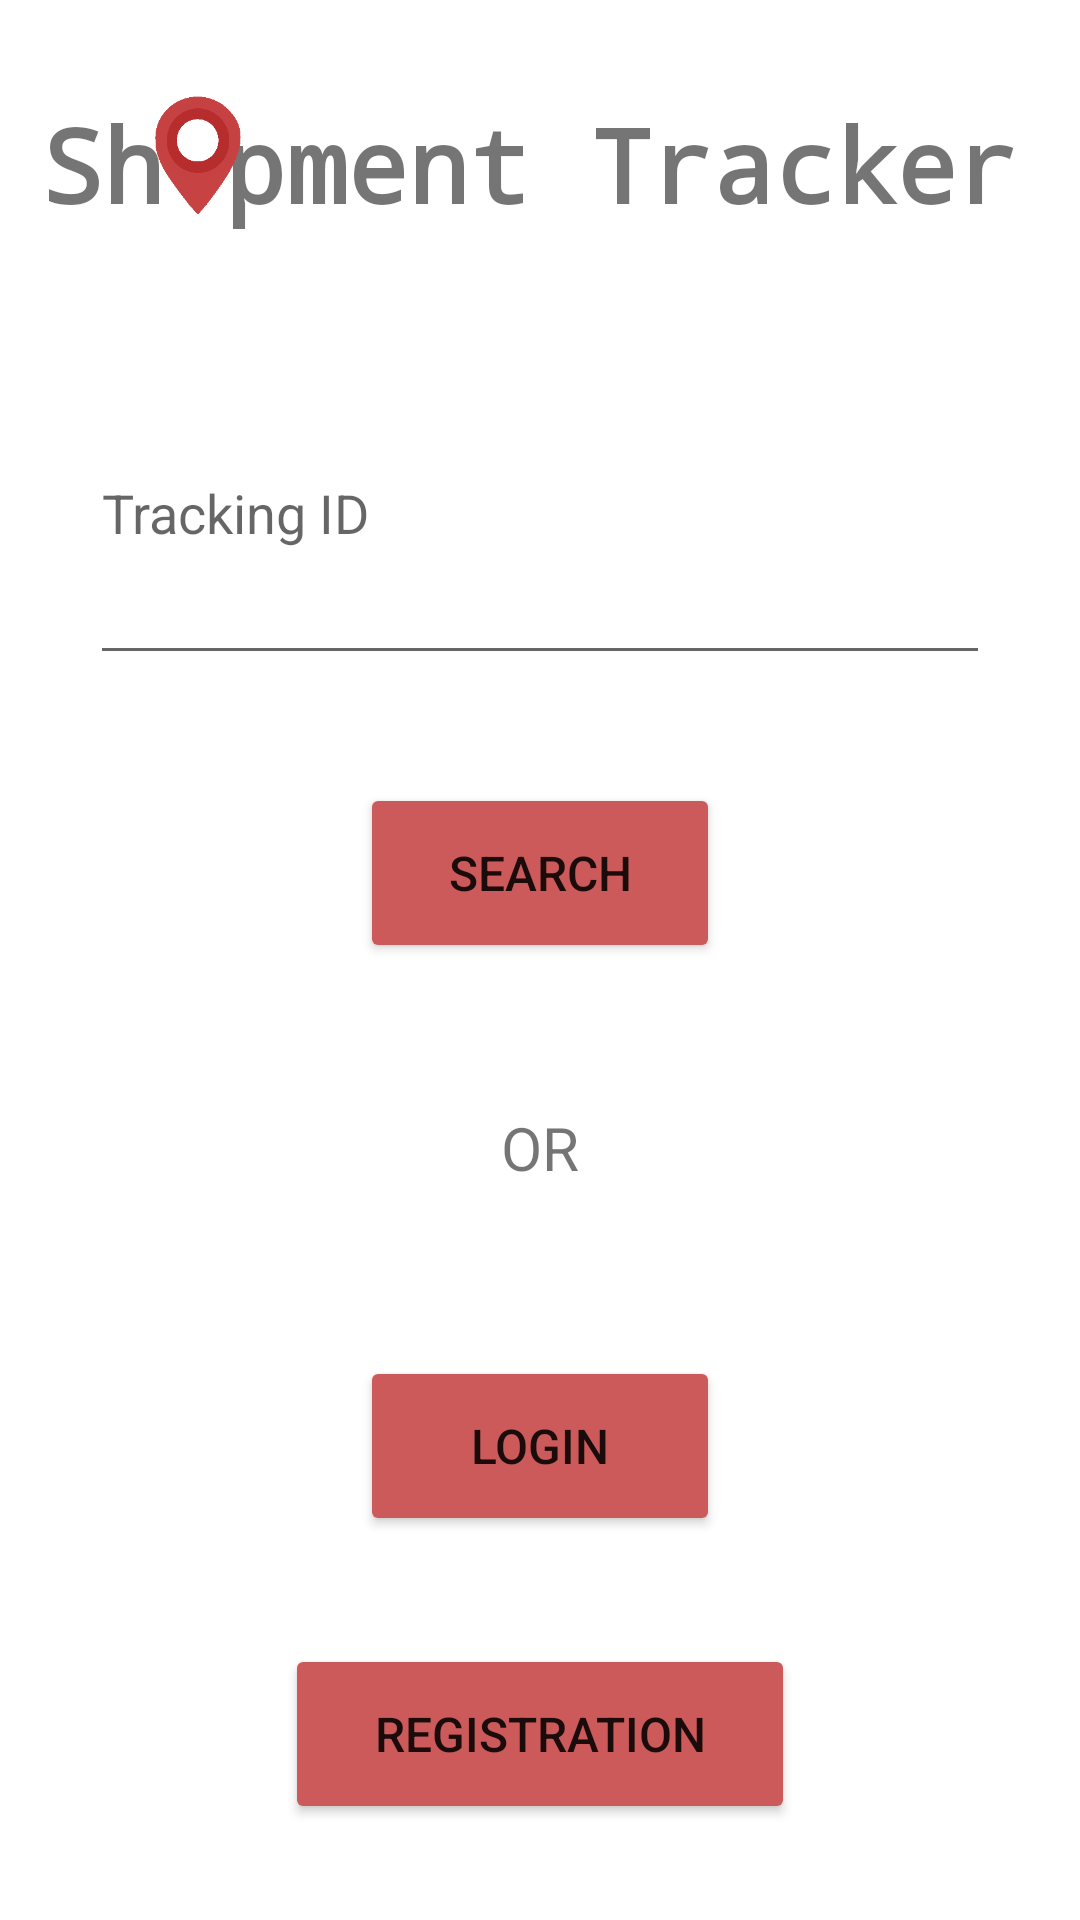

Locate icon controls on the screen. Image size 1080px x 1920px, boxes as (x1, y1, x2, y2).
pin: (138, 96, 258, 216)
